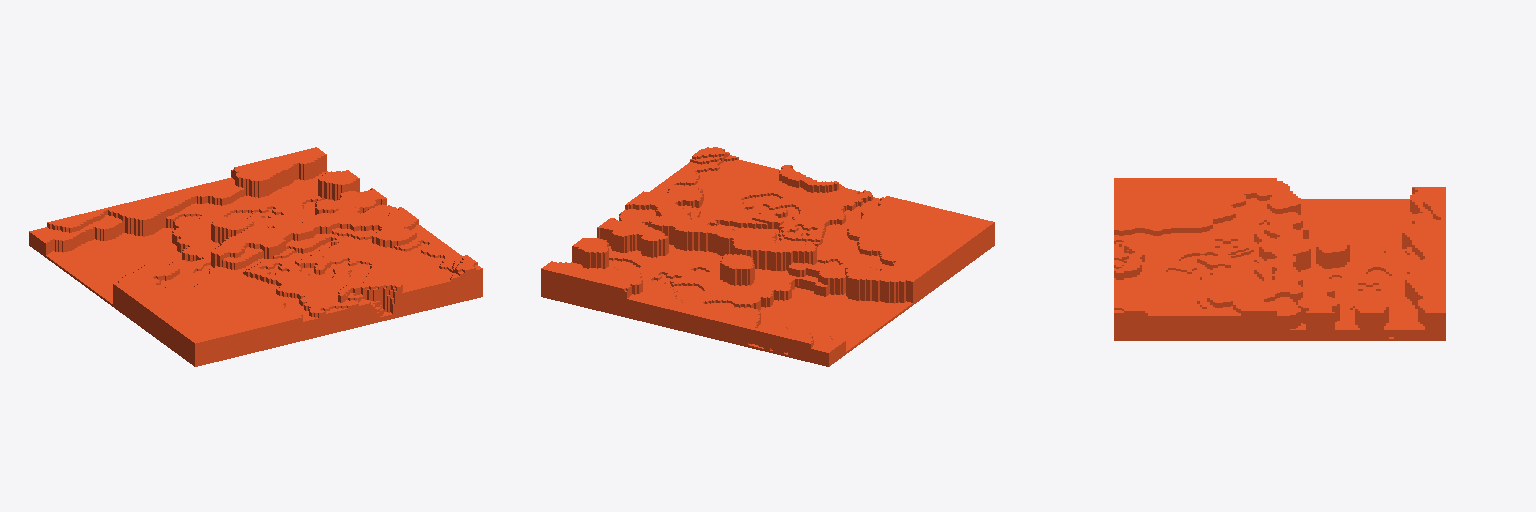
3 renders of one model, left to right at view 1: azimuth 30°, elevation 25°; view 2: azimuth 150°, elevation 25°; view 3: azimuth 270°, elevation 25°, orthographic.
Parts seen in each view (by area): view 1: tutorial-level; view 2: tutorial-level; view 3: tutorial-level.
Boxes of the visible parts, box(x1,y1,x2,y2) form: tutorial-level: box(29, 147, 482, 366); tutorial-level: box(541, 147, 994, 366); tutorial-level: box(1114, 178, 1445, 340).
Size of the model in its own units: 12.8 by 1.3 by 12.8.
Materials: 1 (1 with a texture image).